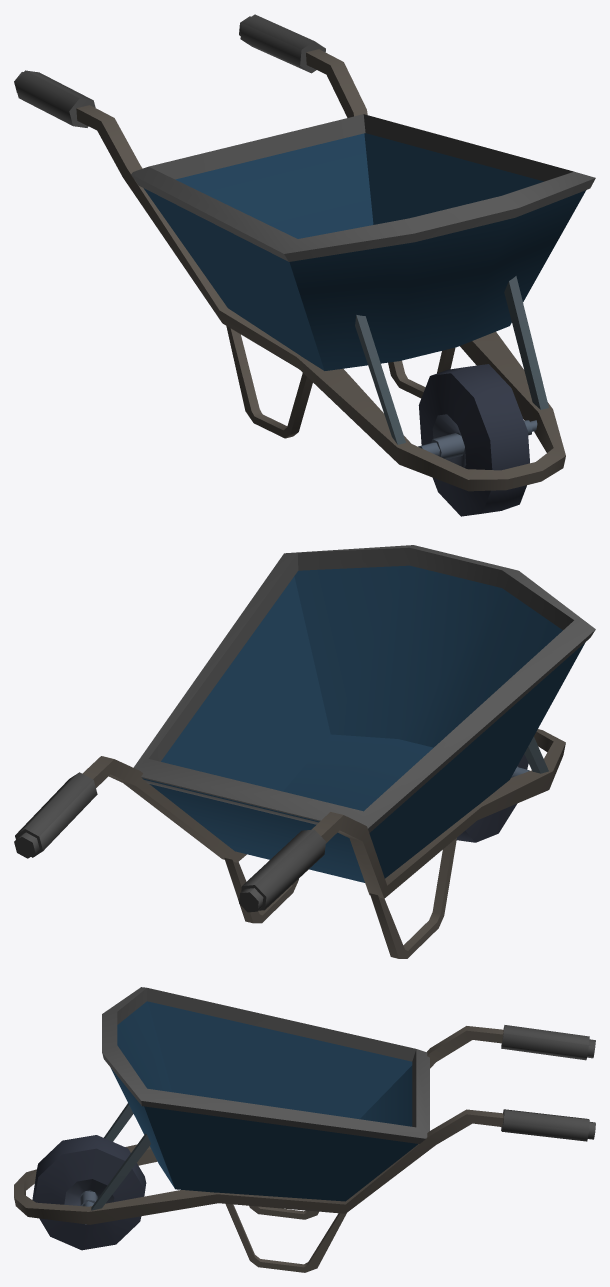
Rendered from WheelBarel_7.fbx.
3 views of the same model, one above another, from view 1: azimuth 30°, elevation 25°; view 2: azimuth 150°, elevation 25°; view 3: azimuth 270°, elevation 25° (orthographic). The views are drawn at different scales.
Parts seen in each view (by area): view 1: WheelBarel_7; view 2: WheelBarel_7; view 3: WheelBarel_7.
Boxes of the visible parts, box(x1,y1,x2,y2) form: WheelBarel_7: box(14, 14, 595, 516); WheelBarel_7: box(14, 545, 595, 958); WheelBarel_7: box(14, 987, 595, 1272).
Bounding box in the file's own units: 99.88 × 88.56 × 216.
